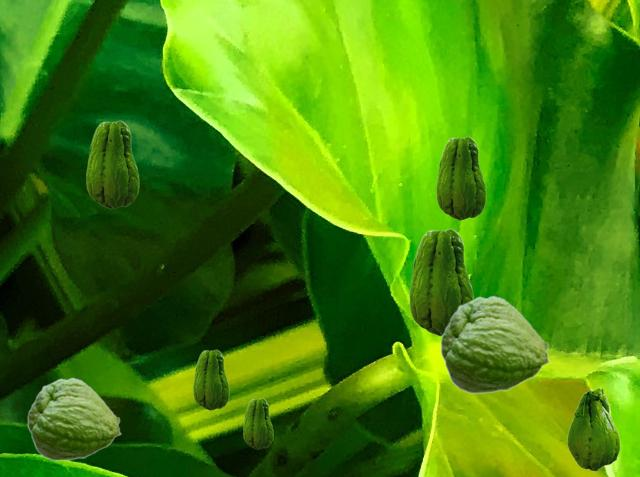sayote: (440, 295, 550, 393), (27, 377, 121, 460), (409, 228, 473, 335), (86, 120, 138, 208), (567, 387, 619, 470), (436, 136, 485, 219), (193, 349, 228, 409), (243, 398, 272, 448)
